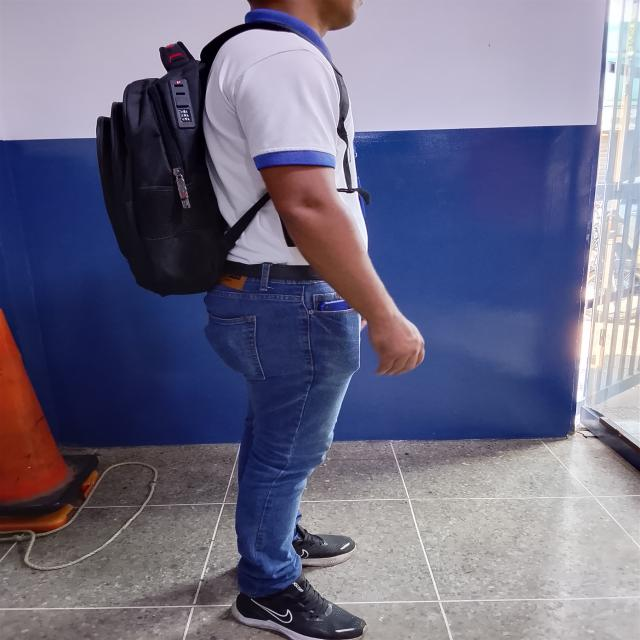uniforme_superior: (202, 8, 368, 266)
